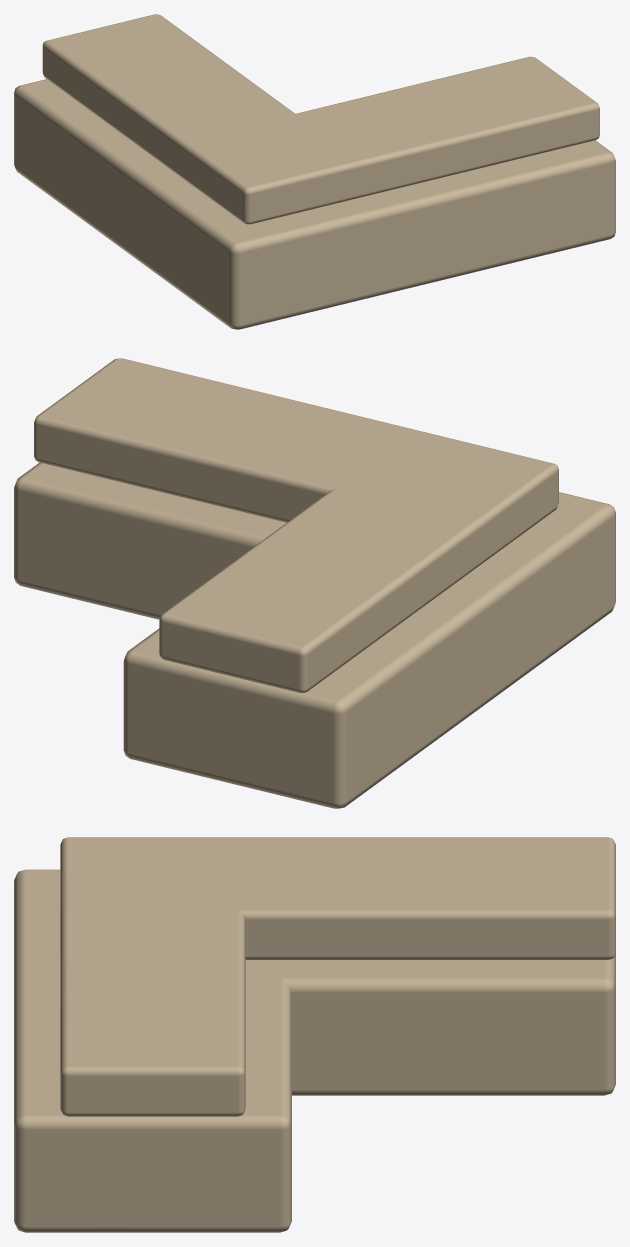
The model's file is coastal-saltworks-and-trade-port-coastal-saltworks-and-4c36a375__31366.glb.
The picture shows the model from 3 angles, top to bottom: view 1: azimuth 30°, elevation 25°; view 2: azimuth 150°, elevation 25°; view 3: azimuth 270°, elevation 25°; orthographic projection. The views are drawn at different scales.
Visible parts, largest first — view 1: coastal-saltworks-and-trade-port-embankment-corner; view 2: coastal-saltworks-and-trade-port-embankment-corner; view 3: coastal-saltworks-and-trade-port-embankment-corner.
Boxes of the visible parts, box(x1,y1,x2,y2) form: coastal-saltworks-and-trade-port-embankment-corner: box(14, 14, 615, 329); coastal-saltworks-and-trade-port-embankment-corner: box(14, 358, 615, 808); coastal-saltworks-and-trade-port-embankment-corner: box(14, 837, 615, 1232).
Size of the model in its own units: 1.3 by 0.4 by 1.3.
